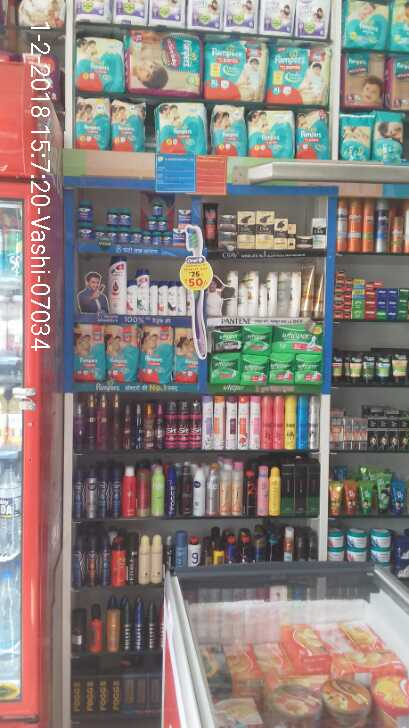beauty: (262, 261, 304, 316), (103, 256, 134, 316), (256, 206, 274, 256), (156, 282, 183, 314), (247, 268, 262, 322), (234, 214, 255, 249), (273, 217, 296, 247), (136, 269, 149, 320), (228, 270, 240, 321), (311, 215, 329, 248)
pharmacy: (121, 24, 204, 101), (68, 199, 198, 246), (197, 29, 263, 104), (268, 39, 334, 110), (70, 30, 128, 95), (154, 102, 213, 154), (207, 356, 323, 382), (244, 108, 300, 159), (137, 324, 174, 389), (77, 93, 115, 153), (103, 322, 140, 382), (109, 99, 149, 150), (68, 322, 103, 380), (204, 107, 248, 151), (296, 107, 327, 162), (176, 324, 202, 387), (271, 323, 317, 354), (236, 320, 267, 354), (210, 329, 240, 350)
